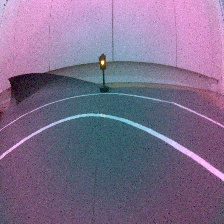amber: (95, 52, 113, 94)
